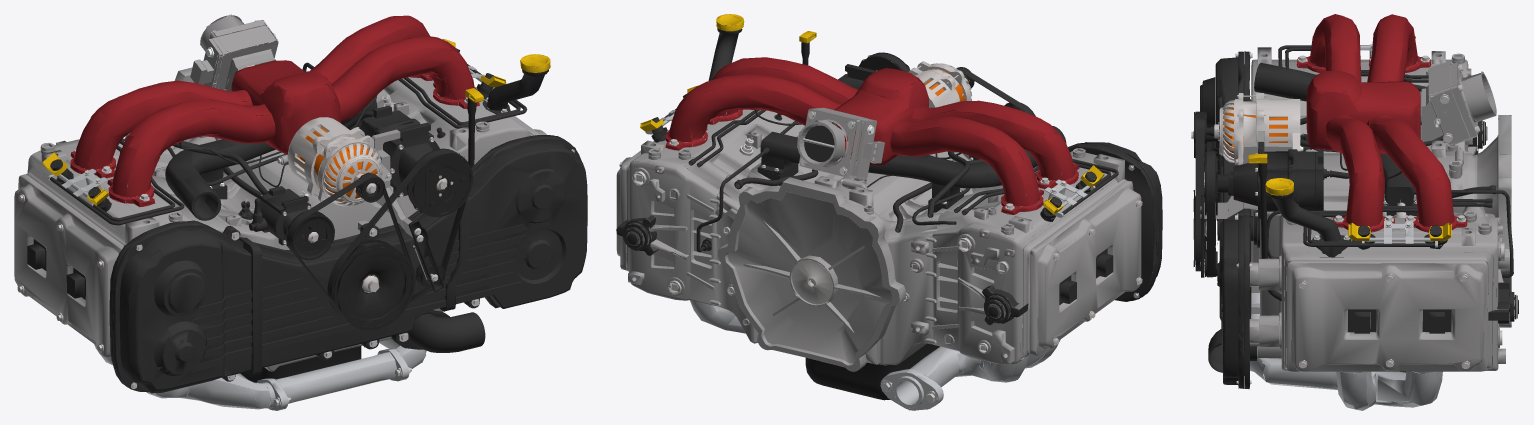
File: eng-f4-25-t.glb
3 views of the same model, side by side, from view 1: azimuth 30°, elevation 25°; view 2: azimuth 150°, elevation 25°; view 3: azimuth 270°, elevation 25° (orthographic). The views are drawn at different scales.
Visible parts, largest first — view 1: Object_6, Object_469, Object_637; view 2: Object_469, Object_6, Object_637; view 3: Object_6, Object_469, Object_637.
Boxes of the visible parts, bbox=[...] form: Object_6: bbox=[17, 14, 574, 410]; Object_469: bbox=[14, 64, 587, 393]; Object_637: bbox=[50, 64, 527, 352]; Object_469: bbox=[616, 109, 1162, 371]; Object_6: bbox=[616, 14, 1142, 410]; Object_637: bbox=[663, 42, 1118, 215]; Object_6: bbox=[1191, 14, 1518, 410]; Object_469: bbox=[1200, 51, 1511, 389]; Object_637: bbox=[1208, 45, 1492, 372].
Bounding box in the file's own units: 0.8675 × 0.5641 × 0.5532.
Materials: 3 (3 with a texture image).
